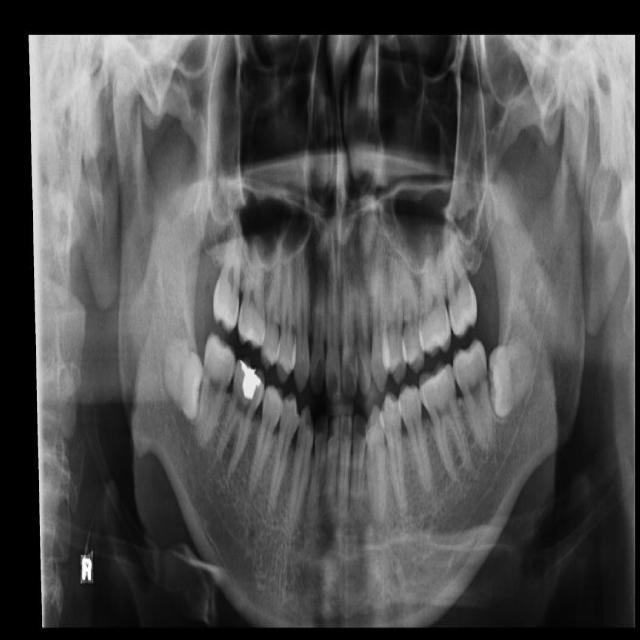52: (234, 356, 265, 409)
73: (622, 616, 631, 630)
BioHorizons Implant: (436, 205, 481, 339)
Biomet 3i Implant: (483, 339, 543, 421)
Blue Sky Bio Implant: (448, 336, 499, 459)
Caries: (211, 199, 247, 336)
Implant: (192, 332, 240, 453)
Keystone Dental Implant: (164, 343, 205, 420)
